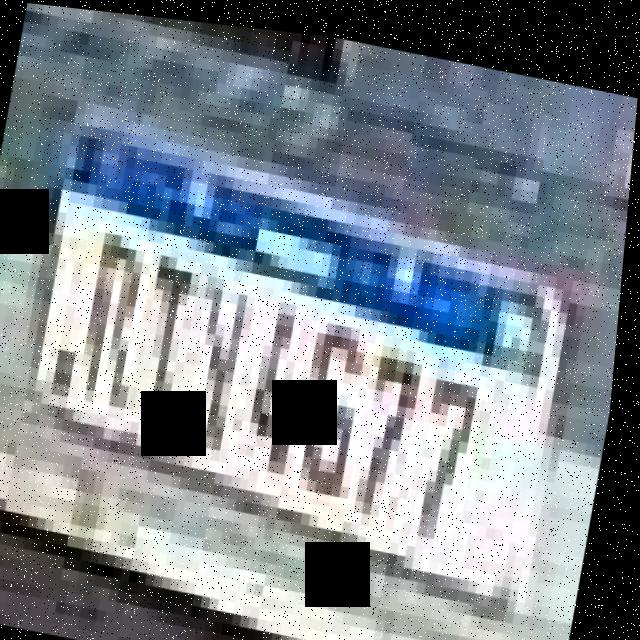4: (240, 285, 321, 472)
7: (353, 330, 441, 523), (418, 354, 493, 534)
G: (294, 304, 387, 498)
R: (73, 219, 162, 413)
T: (134, 242, 216, 424)
Y: (189, 269, 269, 445)
